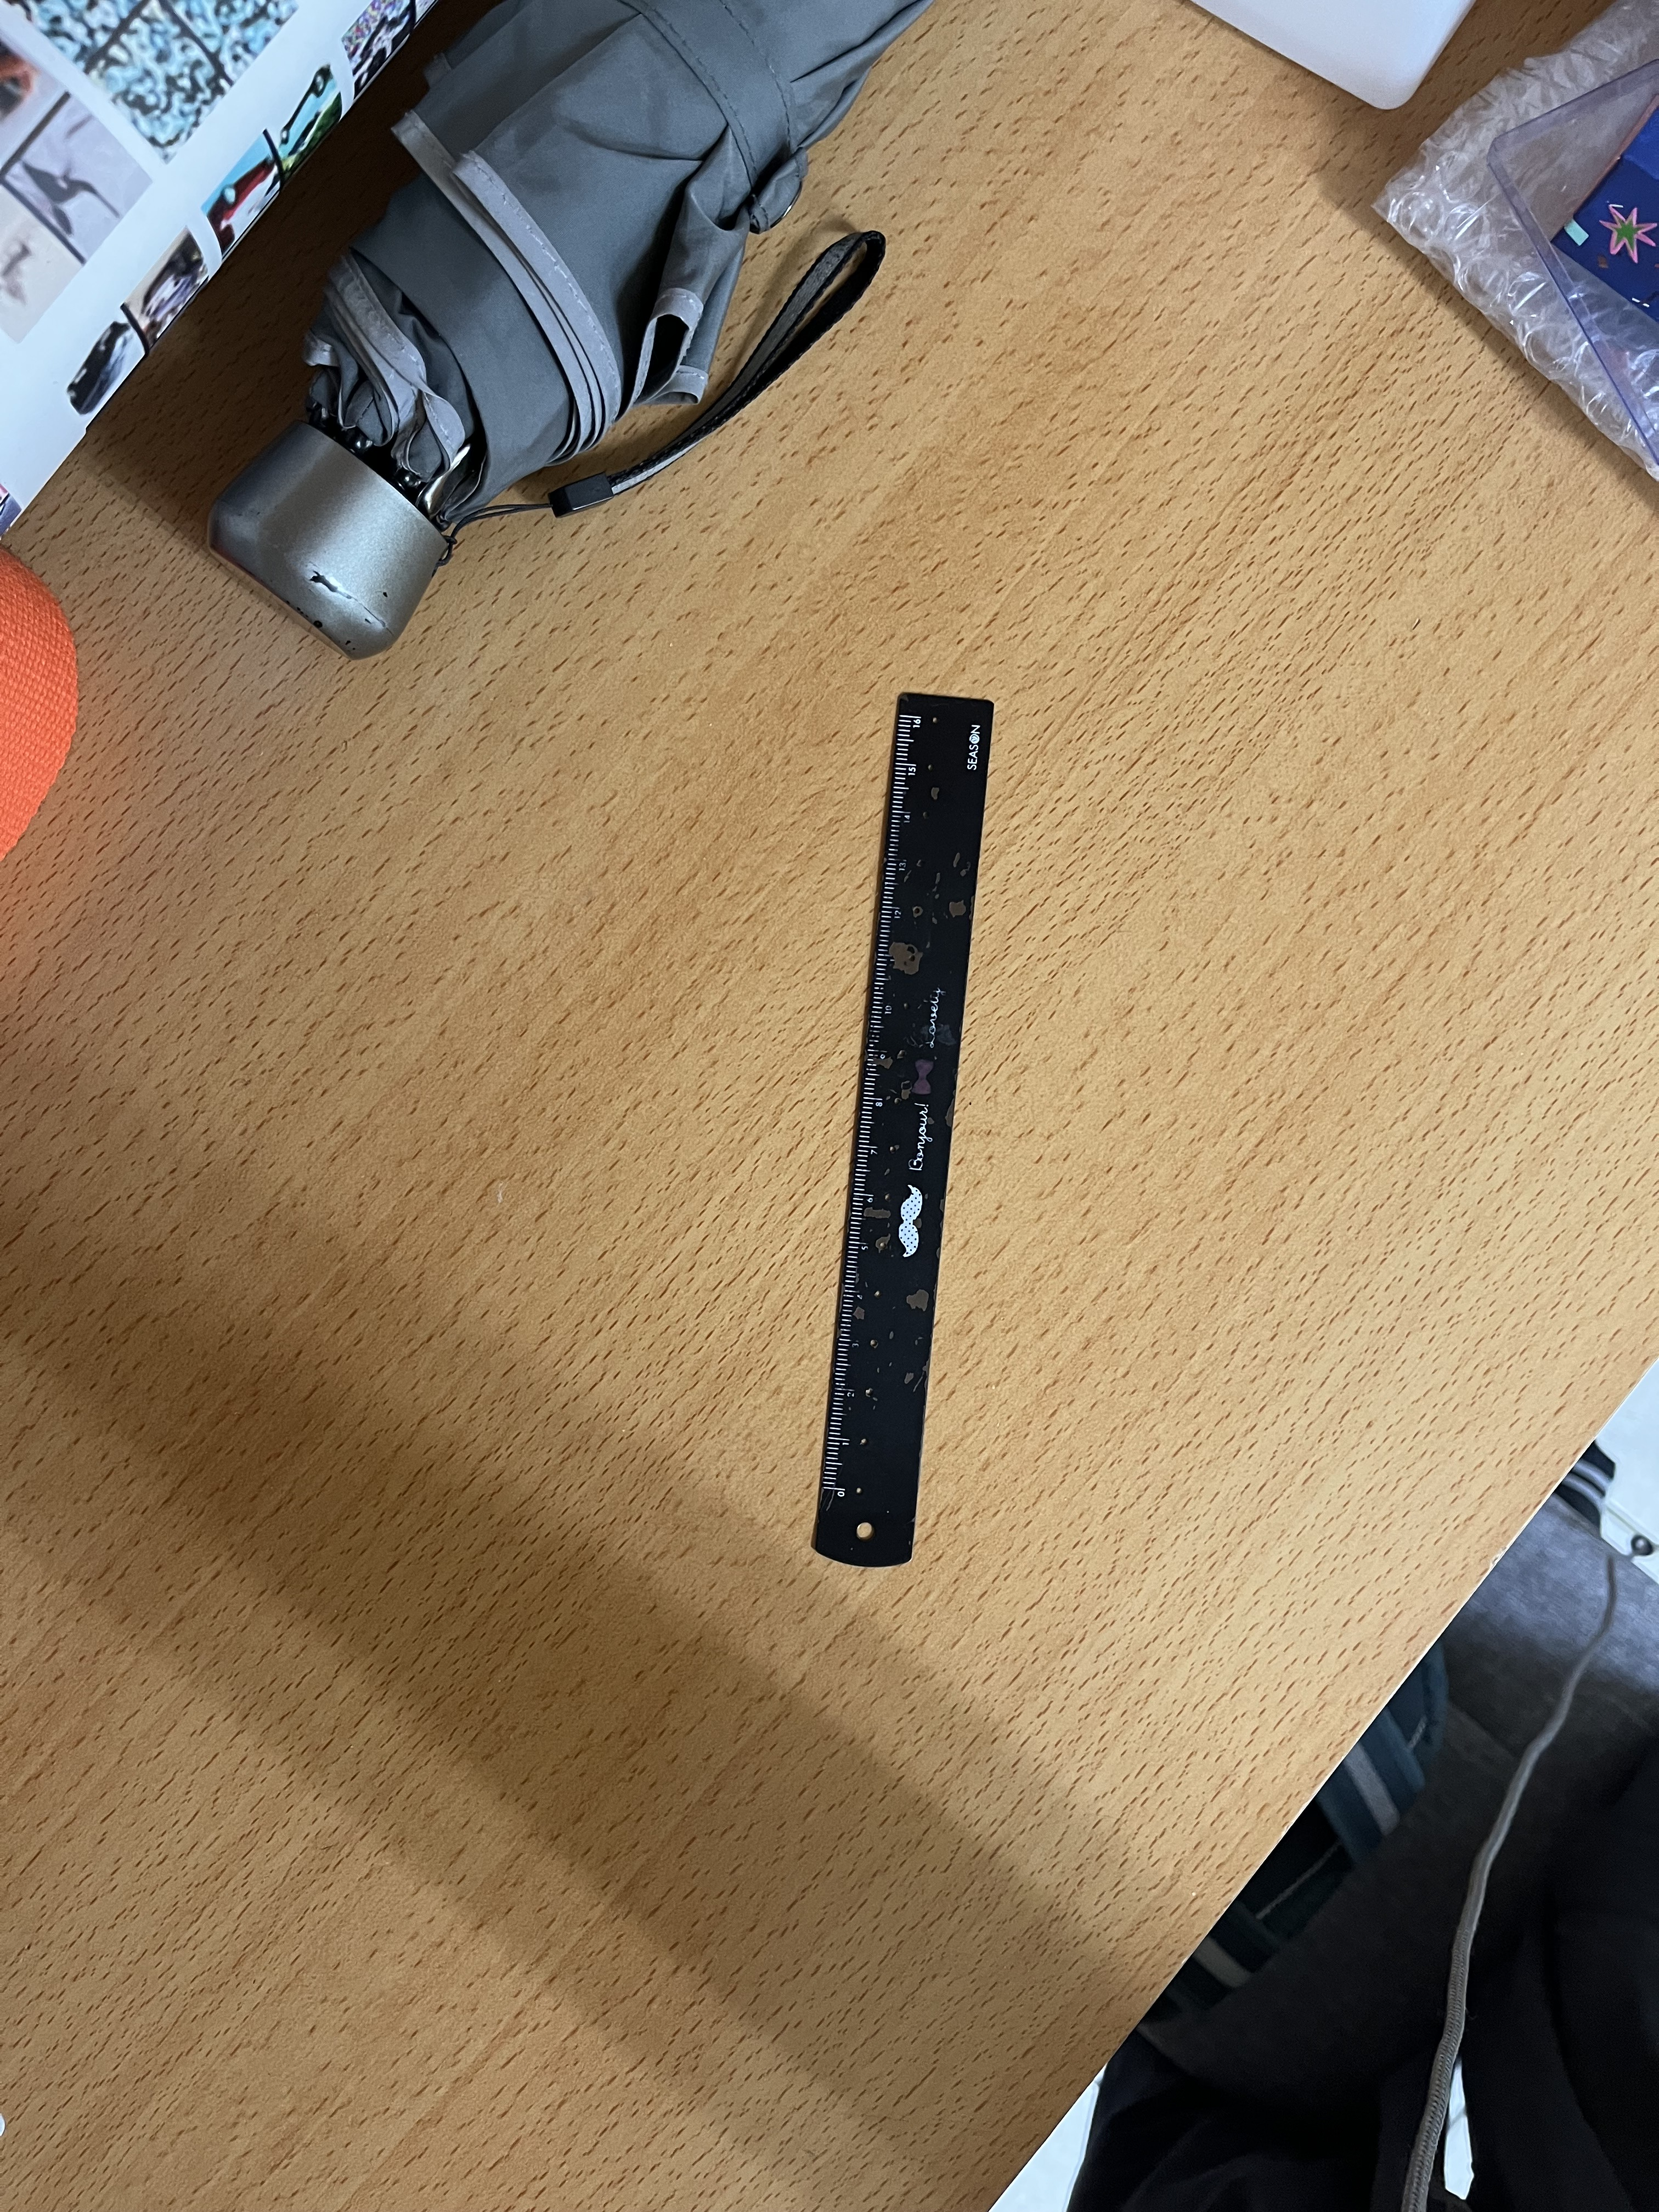ruler: (795, 637, 1011, 1604)
